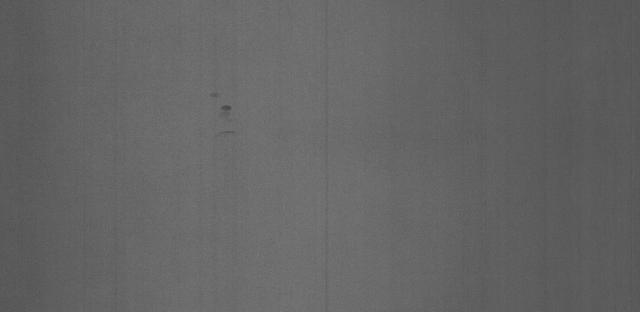oil_spot: (197, 77, 247, 115)
